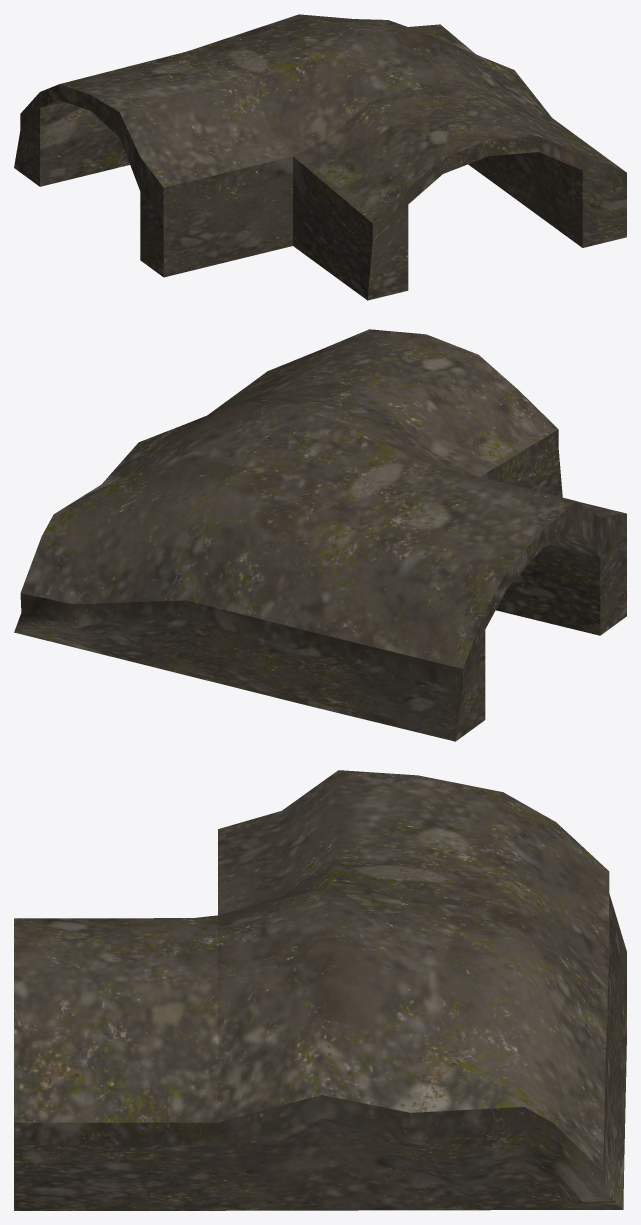
Rendered from CeilingCornerOne.fbx.
3 views of the same model, one above another, from view 1: azimuth 30°, elevation 25°; view 2: azimuth 150°, elevation 25°; view 3: azimuth 270°, elevation 25° (orthographic). The views are drawn at different scales.
Visible parts, largest first — view 1: polySurface27; view 2: polySurface27; view 3: polySurface27.
Part boxes in pixels (left/top/right/bottom): polySurface27: left=14, top=14, right=626, bottom=300; polySurface27: left=14, top=329, right=626, bottom=741; polySurface27: left=14, top=770, right=626, bottom=1210.
Size of the model in its own units: 1263 by 468 by 1262.
Materials: 1 (1 with a texture image).
